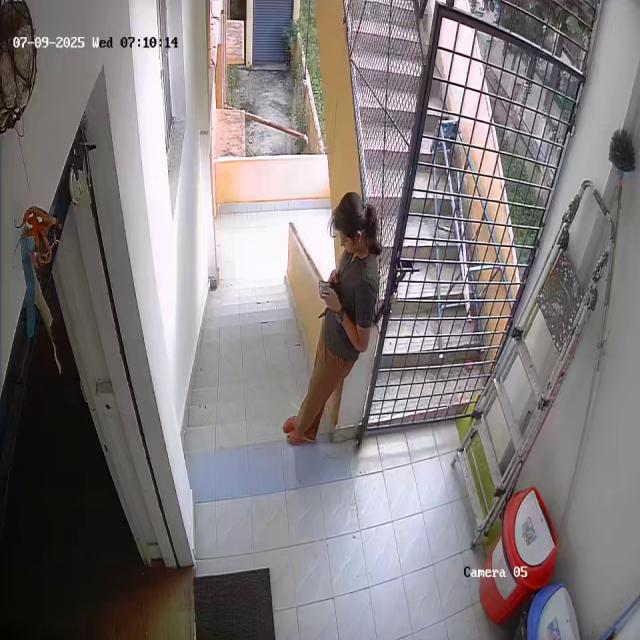person: (281, 189, 383, 453)
